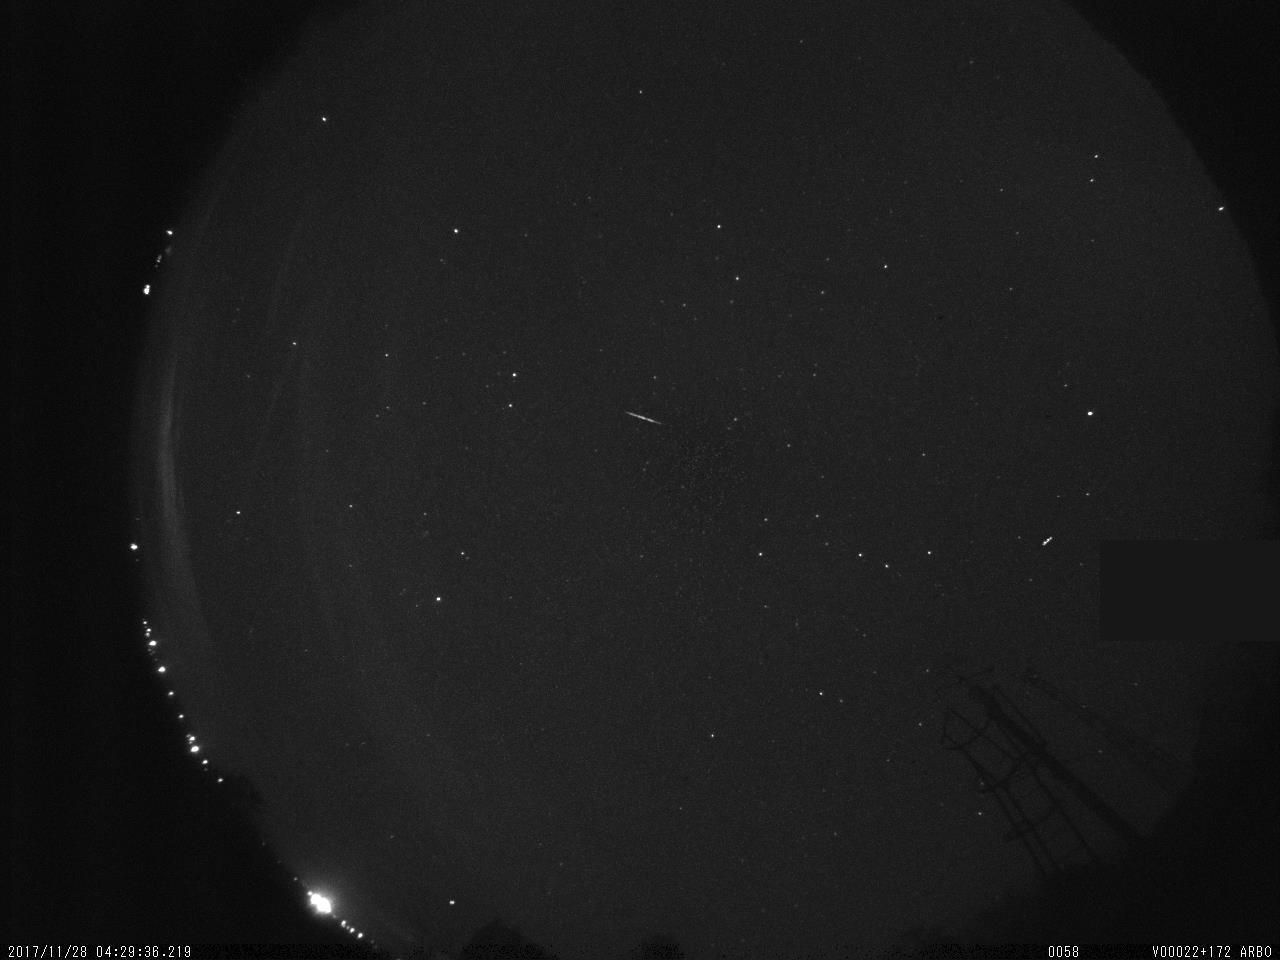meteor: (613, 396, 679, 442)
